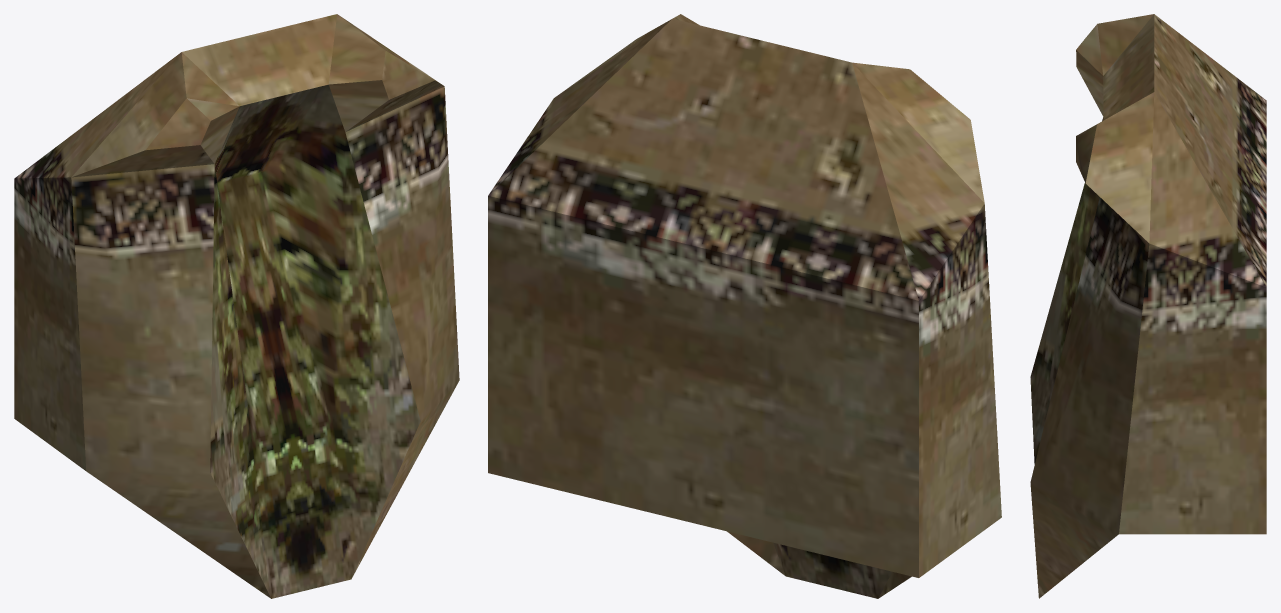
3 views of the same model, side by side, from view 1: azimuth 30°, elevation 25°; view 2: azimuth 150°, elevation 25°; view 3: azimuth 270°, elevation 25° (orthographic). The views are drawn at different scales.
Visible parts, largest first — view 1: StoneMuWall03; view 2: StoneMuWall03; view 3: StoneMuWall03.
Boxes of the visible parts, left/top/right/bottom form: StoneMuWall03: left=14, top=14, right=459, bottom=598; StoneMuWall03: left=488, top=14, right=1001, bottom=598; StoneMuWall03: left=1030, top=14, right=1266, bottom=598.
Bounding box in the file's own units: 300 × 395 × 160.
